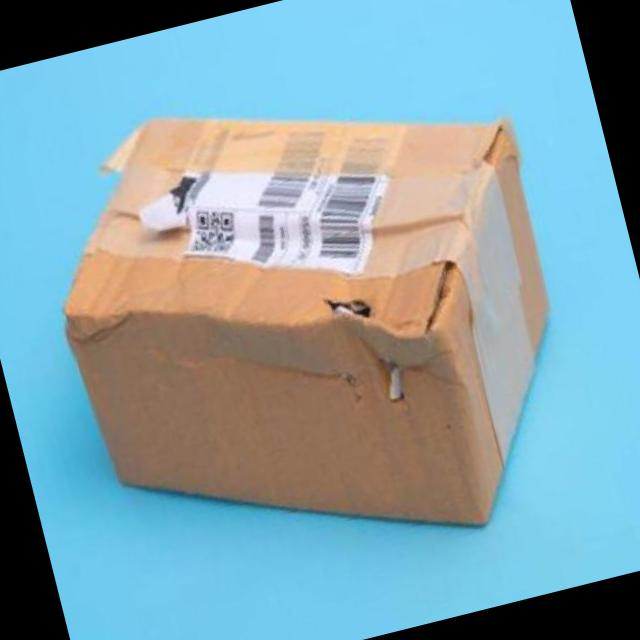box: (61, 119, 548, 531)
crushed: (95, 200, 236, 282), (348, 194, 458, 273), (151, 346, 327, 383), (60, 301, 156, 353)
opened: (324, 290, 413, 407)
